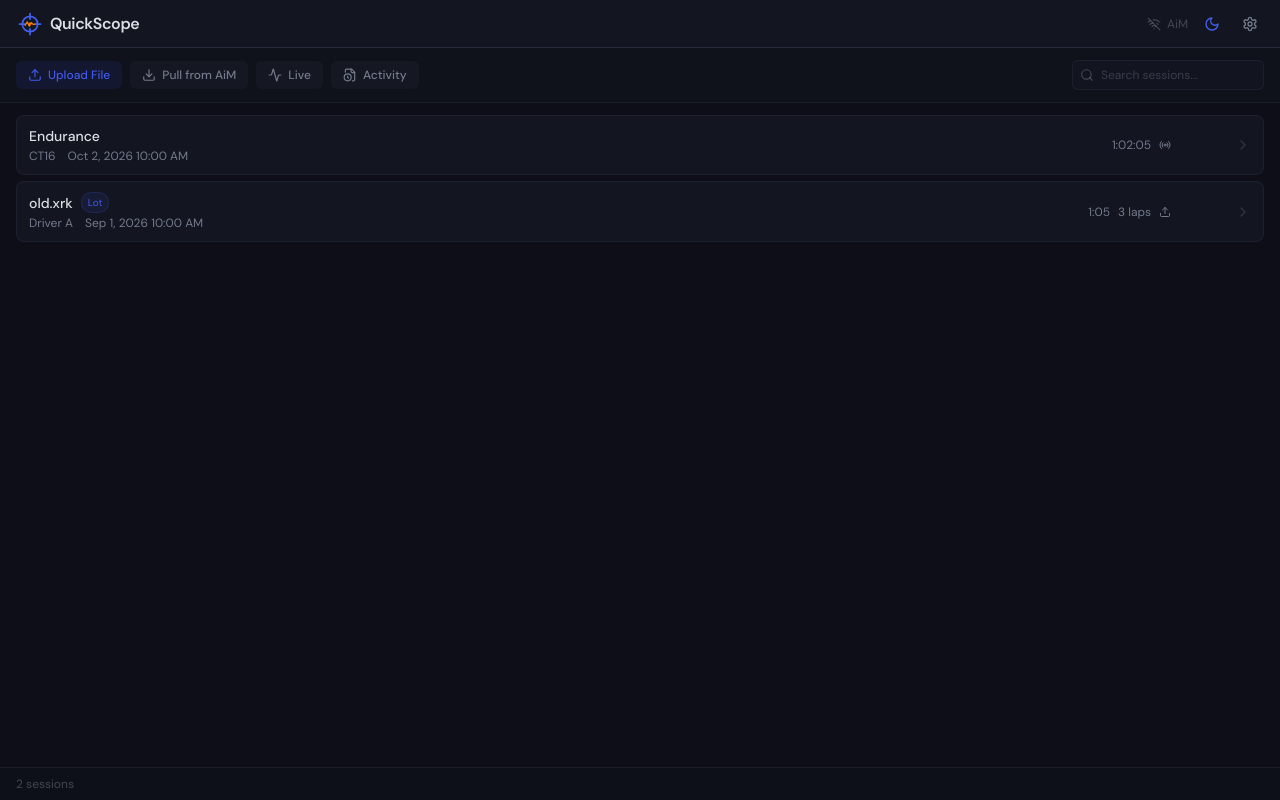
SessionBrowser › opens the AiM picker
Expected: the text "old.xrk" is shown, [29,192,73,212]
Click the button "Pull from AiM": click(189, 75) [130,61,248,89]
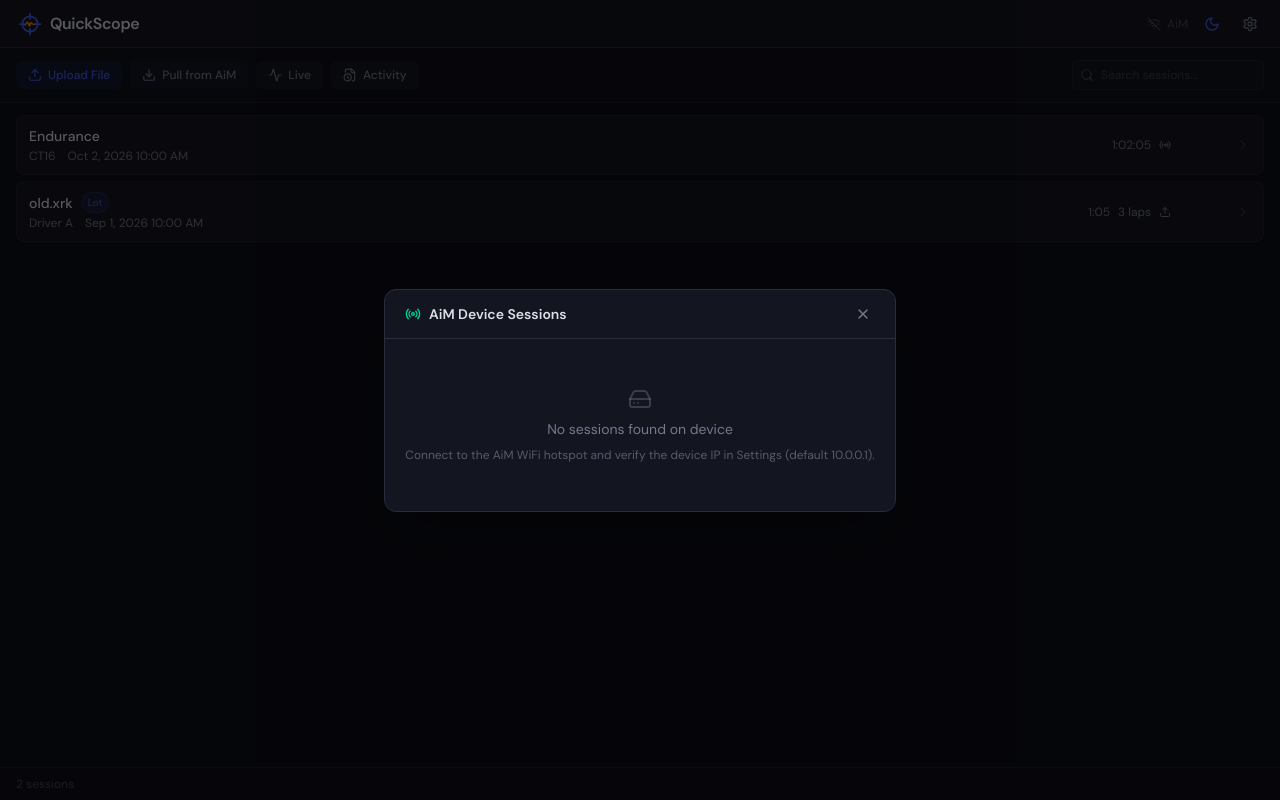
Expected: the heading "AiM Device Sessions" is shown, [429,304,567,324]
